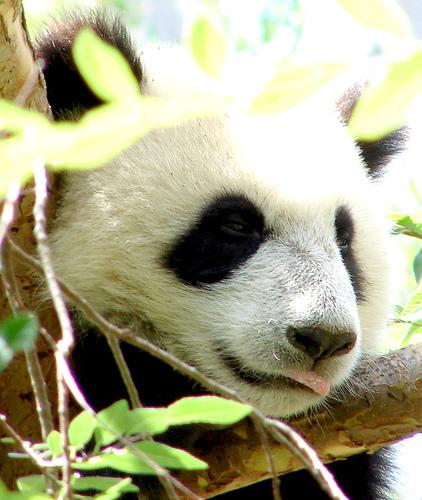panda: (49, 104, 407, 418)
